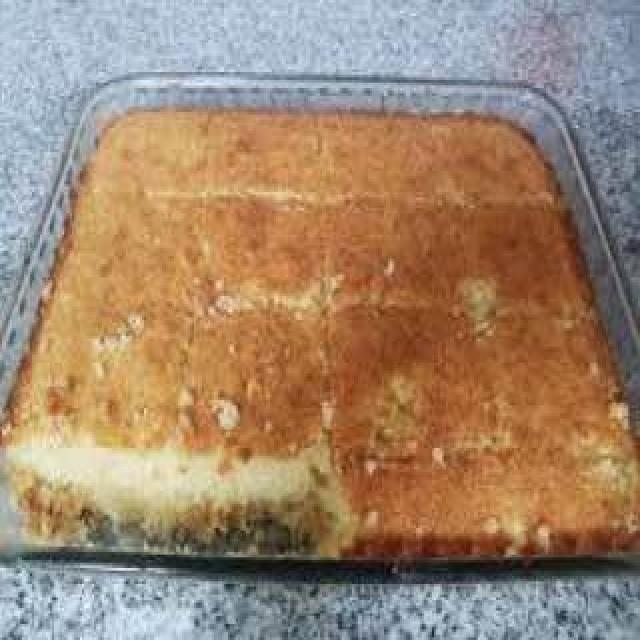pasposa: (0, 93, 640, 570)
